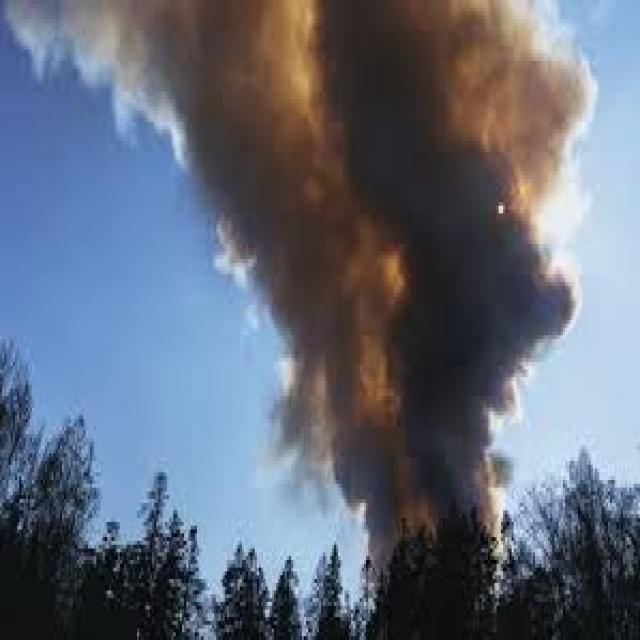Smoke: (238, 0, 598, 640), (173, 0, 625, 338)
